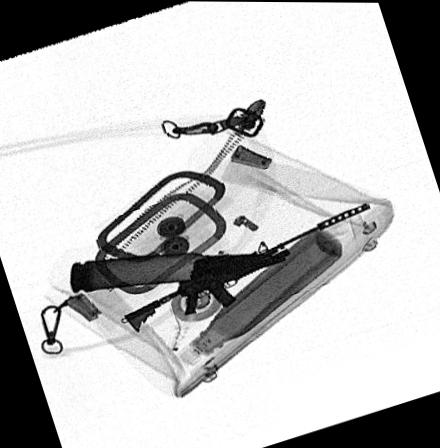Bullet: (68, 251, 283, 293)
Gun: (122, 202, 369, 334)
